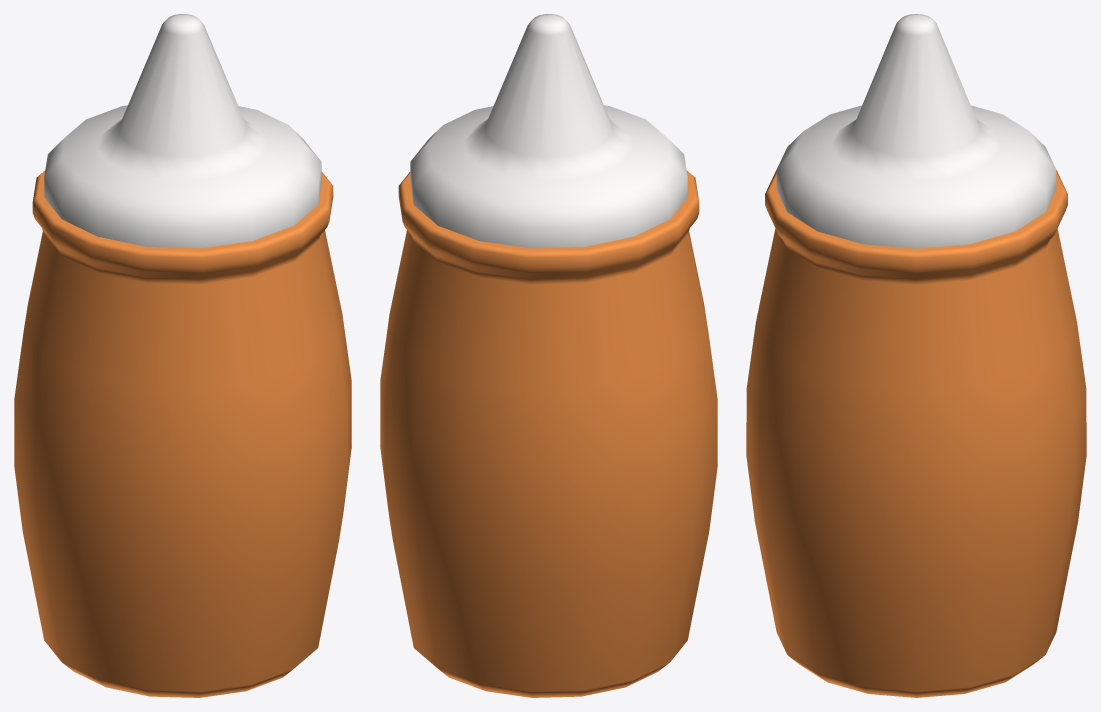
File: Mustard_1.glb
The picture shows the model from 3 angles, left to right: view 1: azimuth 30°, elevation 25°; view 2: azimuth 150°, elevation 25°; view 3: azimuth 270°, elevation 25°; orthographic projection.
Visible parts, largest first — view 1: Mustard_1; view 2: Mustard_1; view 3: Mustard_1.
Part boxes in pixels (x1,y1,x2,y2): Mustard_1: [14, 14, 351, 697]; Mustard_1: [380, 14, 717, 697]; Mustard_1: [746, 14, 1086, 697].
Bounding box in the file's own units: 0.1478 × 0.2998 × 0.1478.
Materials: 1 (1 with a texture image).
